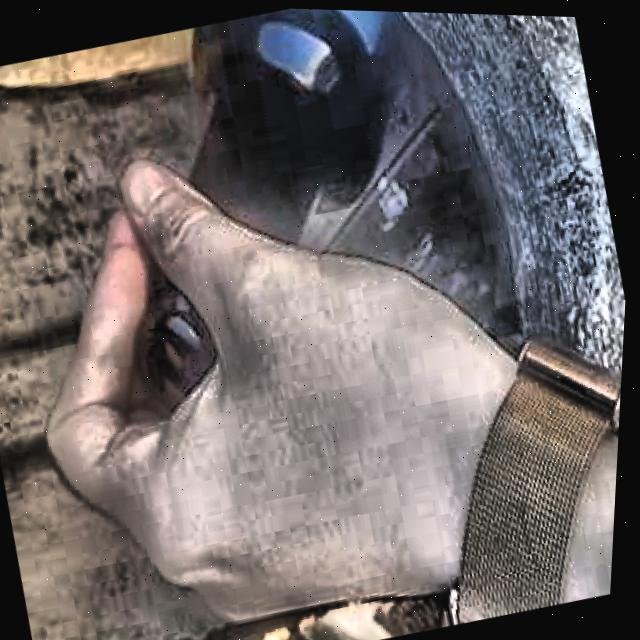glass: (193, 7, 388, 242), (139, 266, 219, 409)
